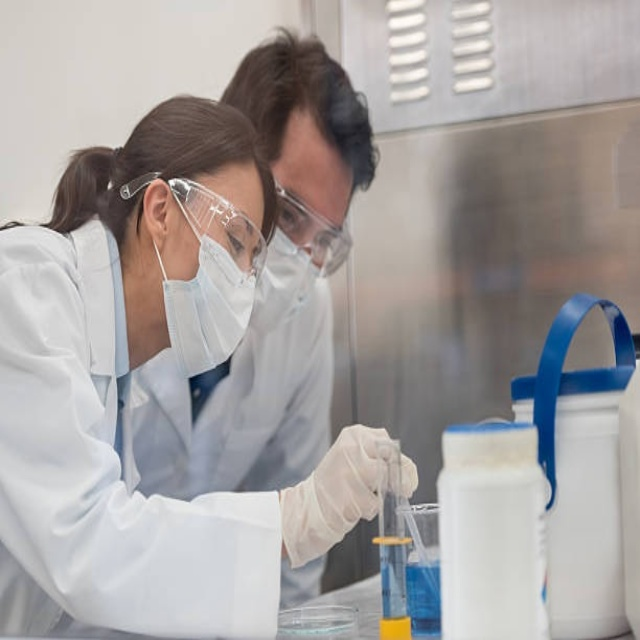Gafas: (148, 174, 262, 285), (276, 187, 355, 280)
Guantes: (281, 422, 415, 568)
Mascara: (158, 229, 255, 385), (264, 226, 320, 333)
